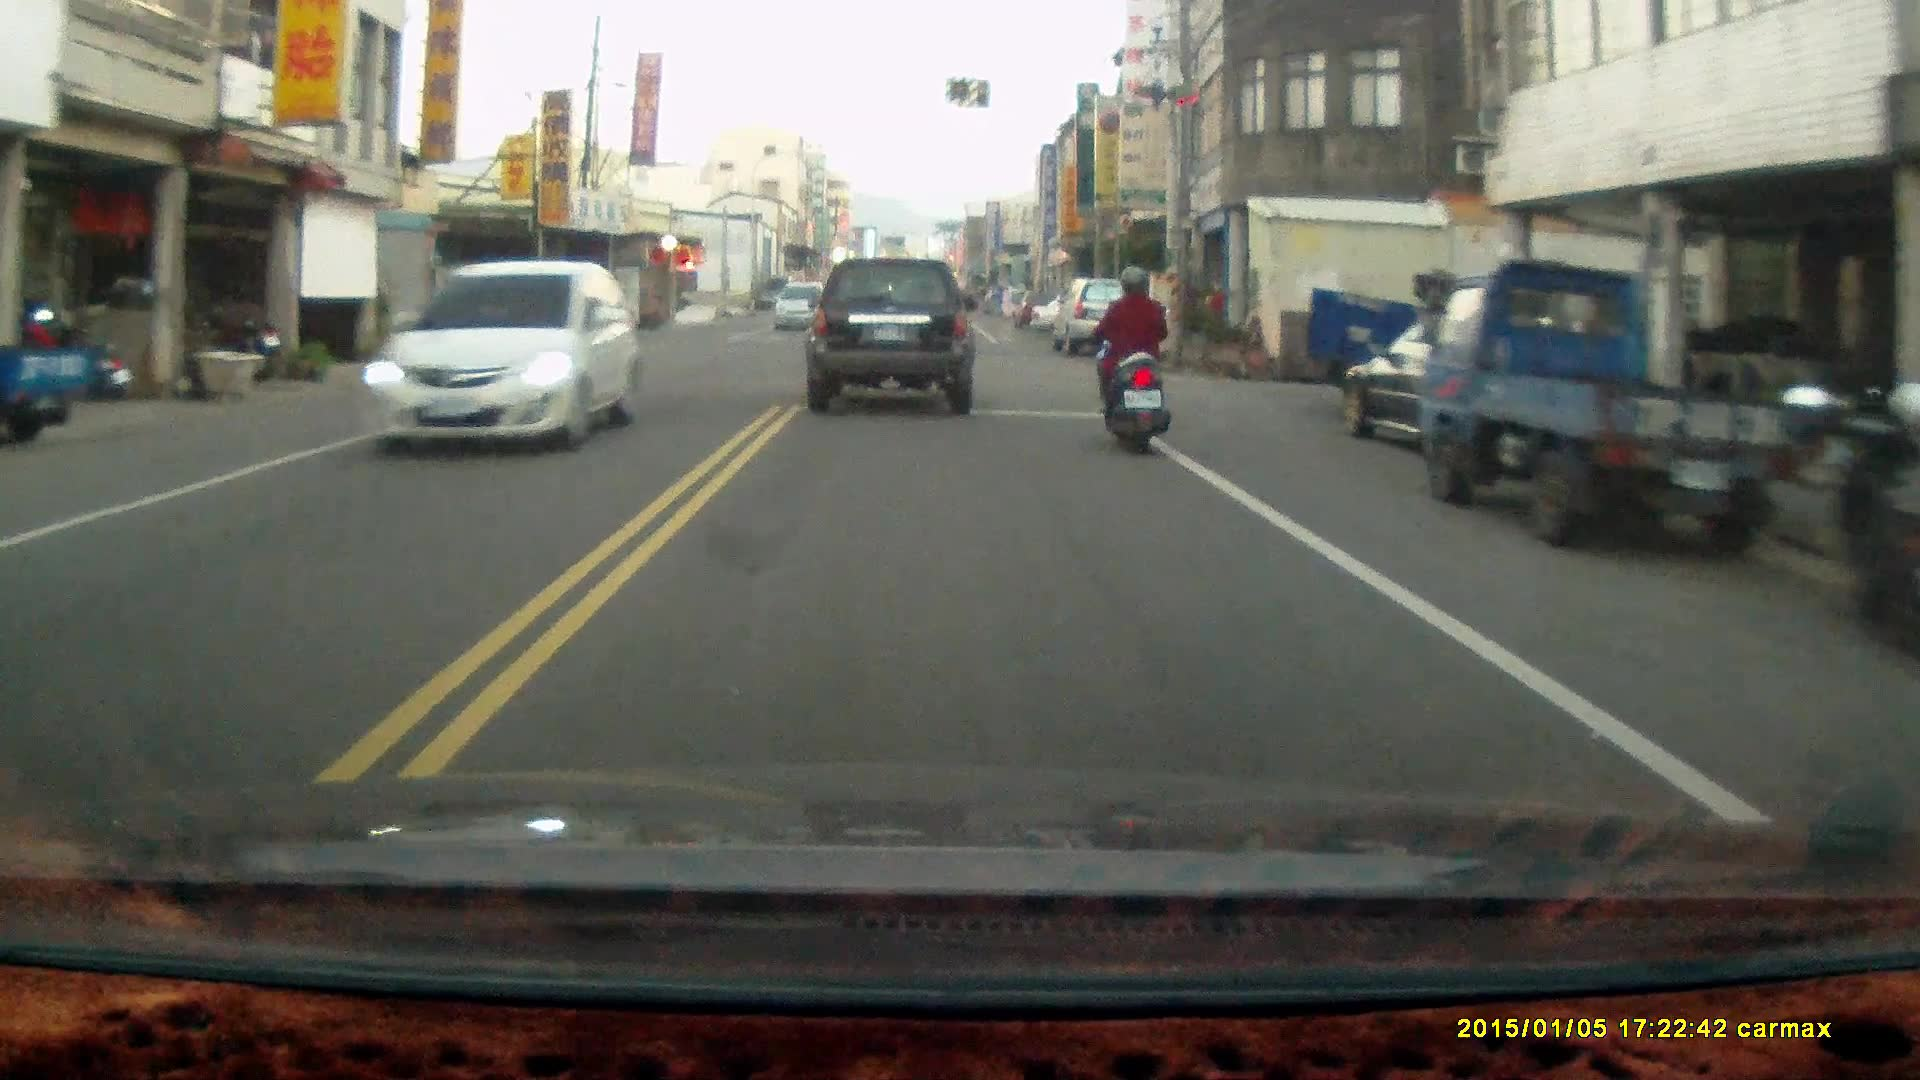rider: (1091, 265, 1171, 458)
vehicle: (1409, 256, 1816, 565), (360, 259, 641, 457), (1341, 314, 1599, 465), (1301, 278, 1544, 433), (804, 254, 985, 420), (1, 267, 106, 452), (1053, 275, 1150, 357)
